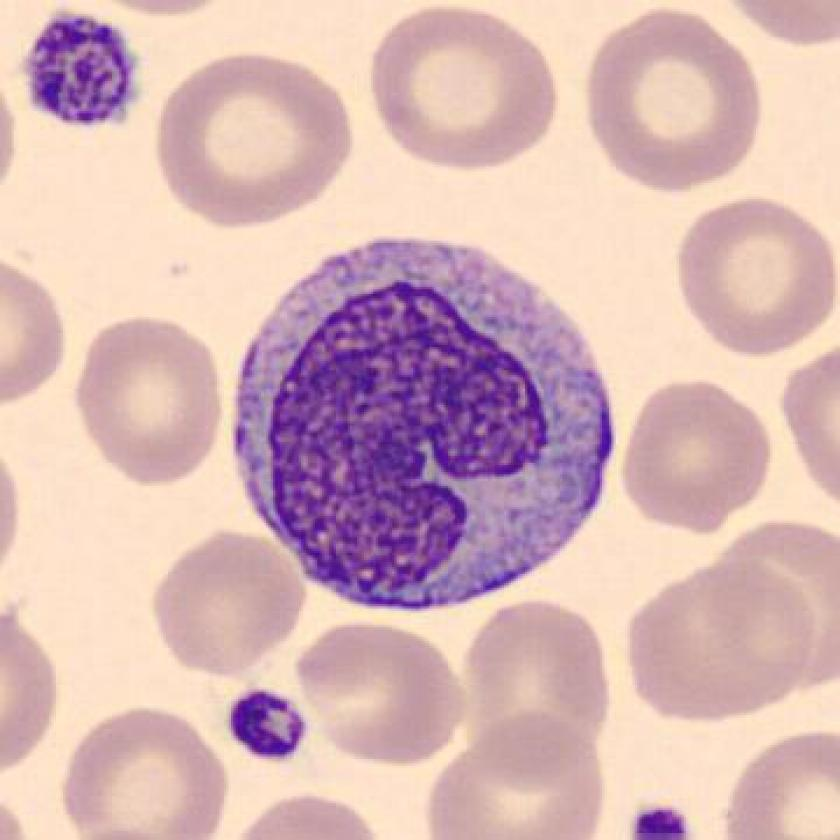monocyte: (211, 217, 631, 631)
